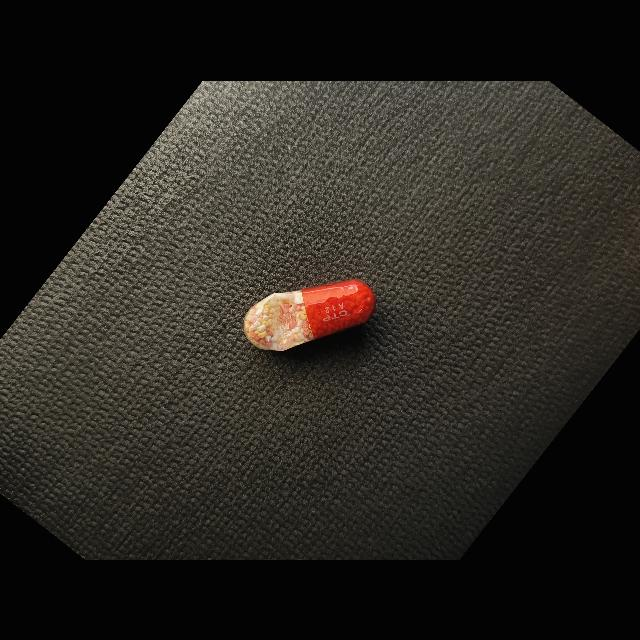Defective Capsule: (243, 279, 376, 351)
